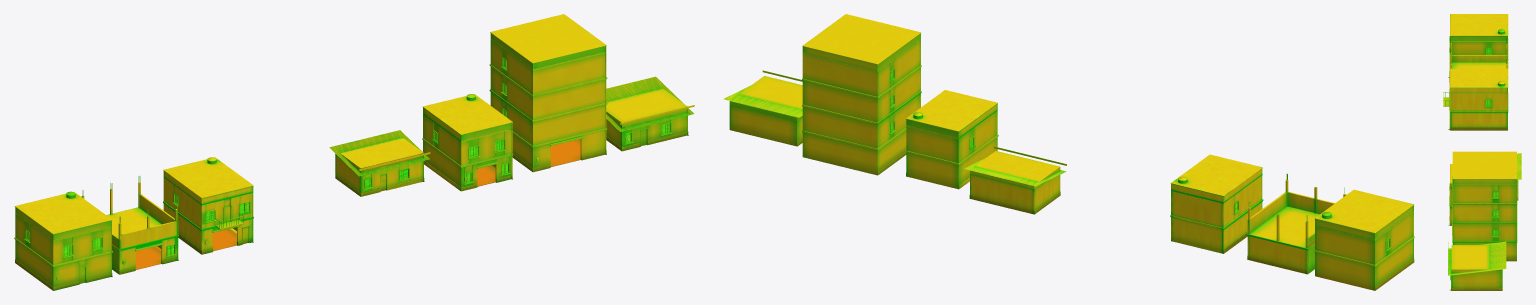
Rendered from rue_lagune.glb.
3 views of the same model, side by side, from view 1: azimuth 30°, elevation 25°; view 2: azimuth 150°, elevation 25°; view 3: azimuth 270°, elevation 25° (orthographic). The views are drawn at different scales.
Parts seen in each view (by area): view 1: b4, b6, b3, b1, b5, b2, b0; view 2: b4, b6, b1, b3, b0, b2, b5; view 3: b4, b1, b5, b6, b0, b3, b2.
Part boxes in pixels (x1,y1,x2,y2): b4: (489,14,607,172); b6: (14,191,112,290); b3: (422,94,513,191); b1: (163,157,253,254); b5: (606,76,694,151); b2: (329,130,430,196); b0: (81,176,178,274); b4: (802,14,921,175); b6: (1314,189,1414,290); b1: (1170,154,1263,253); b3: (905,90,998,189); b0: (1246,173,1346,274); b2: (964,146,1066,214); b5: (723,70,802,146); b4: (1452,151,1517,261); b1: (1443,68,1508,130); b5: (1448,241,1506,290); b6: (1448,14,1508,77); b0: (1449,38,1508,87); b3: (1448,164,1452,225); b2: (1517,153,1521,200).
Size of the model in its own units: 87.23 by 14.2 by 12.26.
32 materials, 32 textured.
